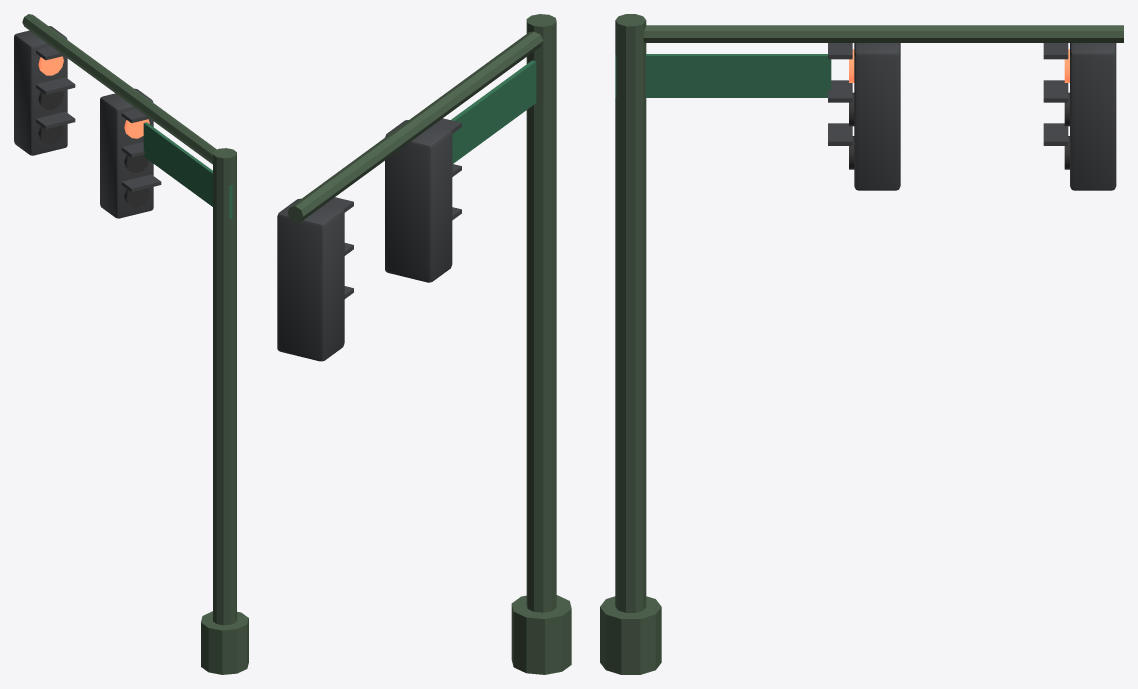
File: ZR_TrafficLight.fbx
3 renders of one model, left to right at view 1: azimuth 30°, elevation 25°; view 2: azimuth 150°, elevation 25°; view 3: azimuth 270°, elevation 25°, orthographic. The views are drawn at different scales.
Parts seen in each view (by area): view 1: ZR_TrafficLight; view 2: ZR_TrafficLight; view 3: ZR_TrafficLight.
Boxes of the visible parts, x1=… form: ZR_TrafficLight: x1=14, y1=14, x2=248, y2=674; ZR_TrafficLight: x1=277, y1=14, x2=571, y2=674; ZR_TrafficLight: x1=600, y1=14, x2=1123, y2=674.
Size of the model in its own units: 0.3804 by 4.6 by 3.4.
